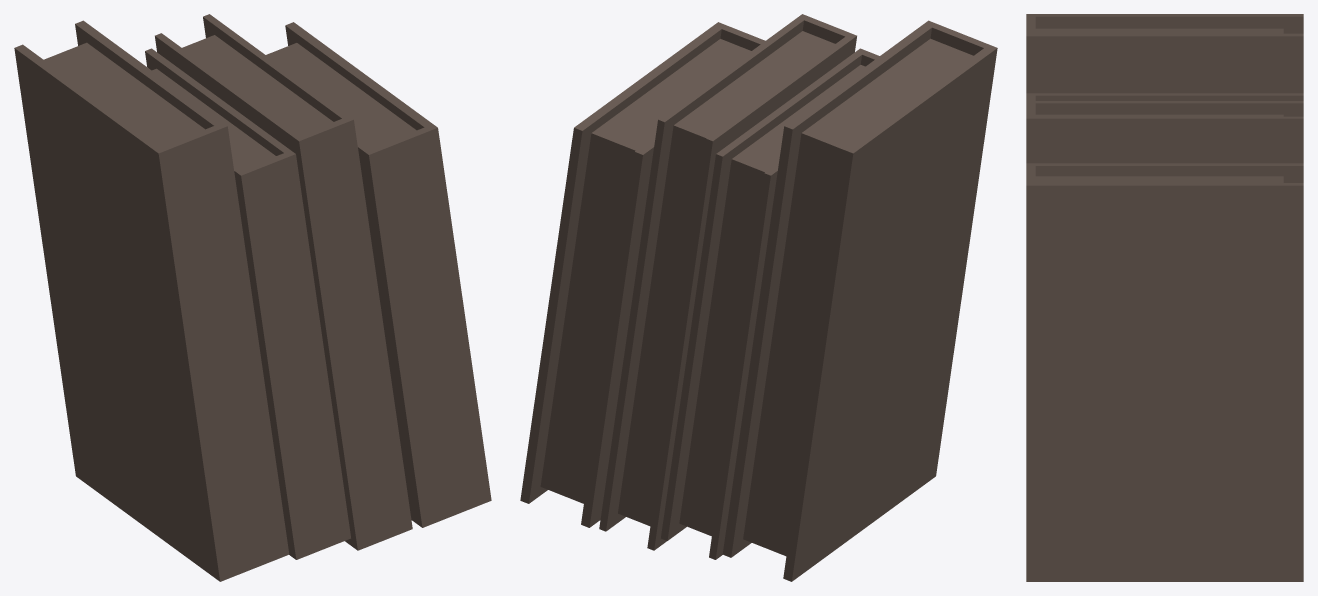
File: Books.fbx.glb
3 renders of one model, left to right at view 1: azimuth 30°, elevation 25°; view 2: azimuth 150°, elevation 25°; view 3: azimuth 270°, elevation 25°, orthographic. The views are drawn at different scales.
Parts seen in each view (by area): view 1: Books.1; view 2: Books.1; view 3: Books.1.
Boxes of the visible parts, x1,y1,x2,y2 form: Books.1: [14, 14, 491, 581]; Books.1: [520, 14, 997, 581]; Books.1: [1026, 14, 1303, 581].
Size of the model in its own units: 18.54 by 24.28 by 13.91.
